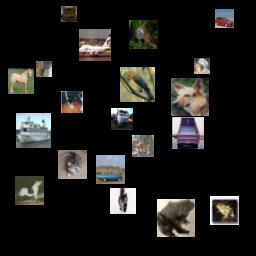airplane: (79, 29, 111, 61)
automobile: (96, 155, 125, 184), (215, 9, 234, 28)
bird: (120, 67, 155, 102)
cat: (58, 150, 87, 179), (110, 188, 136, 214), (61, 91, 83, 113), (36, 61, 52, 77), (61, 6, 77, 22)
deer: (132, 135, 154, 157)
dog: (171, 78, 209, 116), (194, 58, 210, 74)
frog: (157, 199, 195, 237), (129, 20, 158, 49), (210, 196, 239, 225)
ship: (16, 113, 51, 148)
truck: (172, 117, 204, 149), (111, 108, 133, 130)
